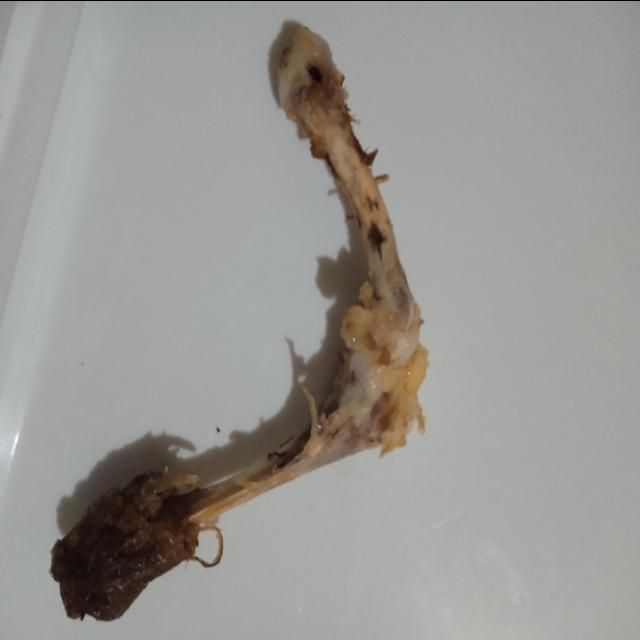bone: (38, 11, 440, 640)
